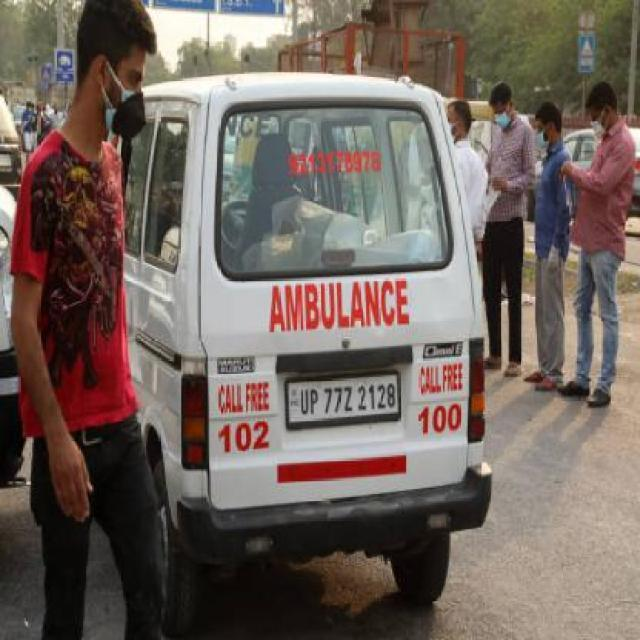Ambulance: (0, 207, 638, 638), (108, 66, 496, 634), (4, 0, 175, 638), (0, 162, 28, 500)
